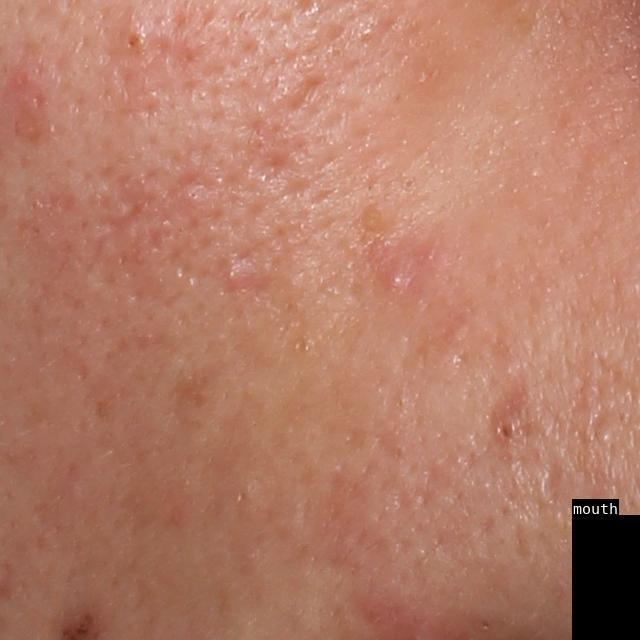atrophic_scar: (91, 176, 156, 264), (278, 72, 338, 115), (248, 150, 293, 179)
comedo: (356, 193, 394, 243), (492, 414, 523, 447), (121, 24, 146, 64)
papule: (6, 55, 52, 124), (219, 257, 252, 289)
